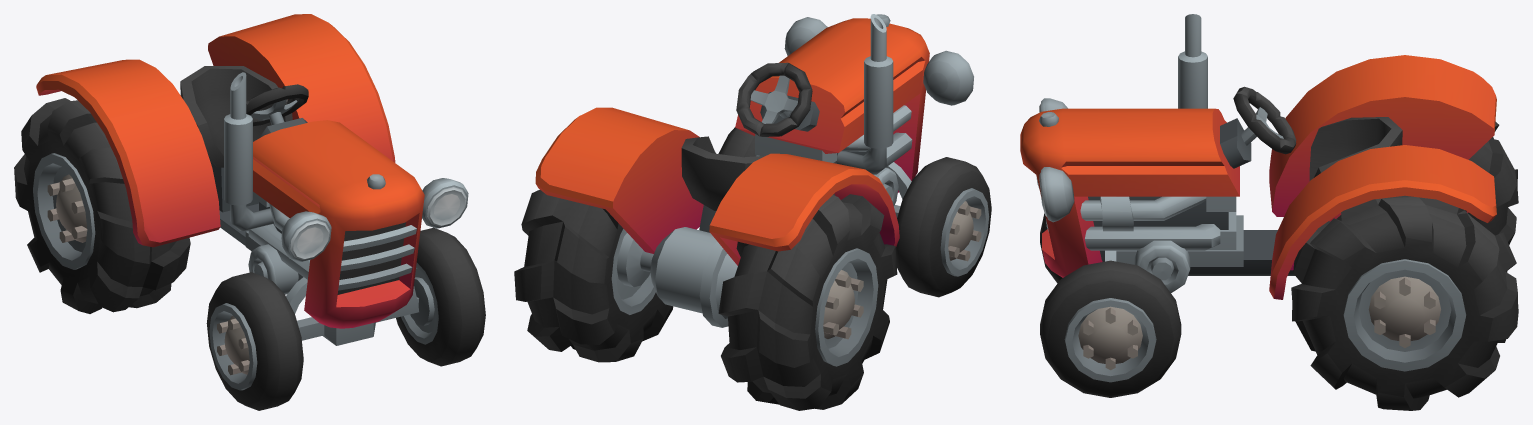
File: tractor.gltf
3 renders of one model, left to right at view 1: azimuth 30°, elevation 25°; view 2: azimuth 150°, elevation 25°; view 3: azimuth 270°, elevation 25°, orthographic. The views are drawn at different scales.
Visible parts, largest first — view 1: tractor, tractor_wheel_rear_right, tractor_wheel_front_right, tractor_wheel_front_left, tractor_steeringwheel; view 2: tractor, tractor_wheel_rear_right, tractor_wheel_rear_left, tractor_wheel_front_right, tractor_steeringwheel, tractor_wheel_front_left; view 3: tractor, tractor_wheel_rear_left, tractor_wheel_front_left, tractor_wheel_rear_right, tractor_steeringwheel.
Boxes of the visible parts, box(x1,y1,x2,y2) form: tractor: box(36, 14, 468, 345); tractor_wheel_rear_right: box(14, 98, 190, 313); tractor_wheel_front_right: box(206, 272, 303, 410); tractor_wheel_front_left: box(396, 227, 485, 366); tractor_steeringwheel: box(246, 84, 308, 126); tractor: box(535, 14, 973, 327); tractor_wheel_rear_right: box(718, 194, 897, 410); tractor_wheel_rear_left: box(514, 189, 673, 362); tractor_wheel_front_right: box(895, 157, 991, 297); tractor_steeringwheel: box(736, 62, 812, 136); tractor_wheel_front_left: box(718, 127, 755, 157); tractor: box(1020, 14, 1496, 299); tractor_wheel_rear_left: box(1291, 195, 1518, 410); tractor_wheel_front_left: box(1040, 260, 1181, 397); tractor_wheel_rear_right: box(1468, 121, 1518, 244); tractor_steeringwheel: box(1233, 86, 1296, 154).
Size of the model in its own units: 2.85 by 2.81 by 4.17.
Materials: 1 (1 with a texture image).
